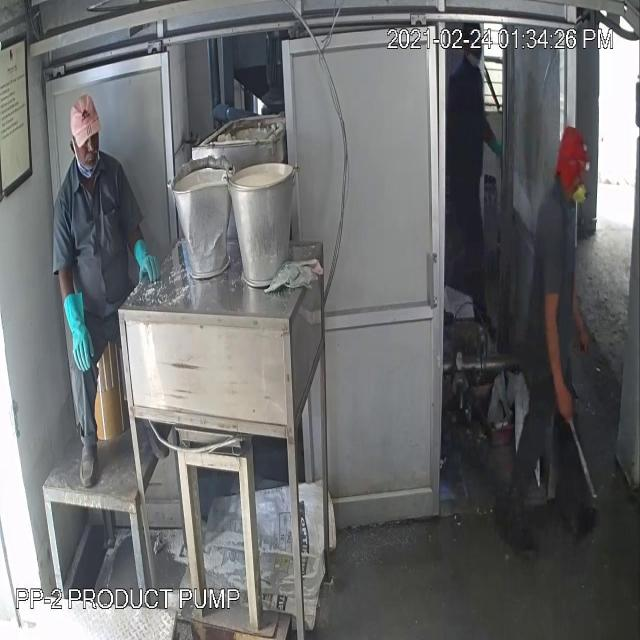no-helmet: (62, 84, 105, 154)
